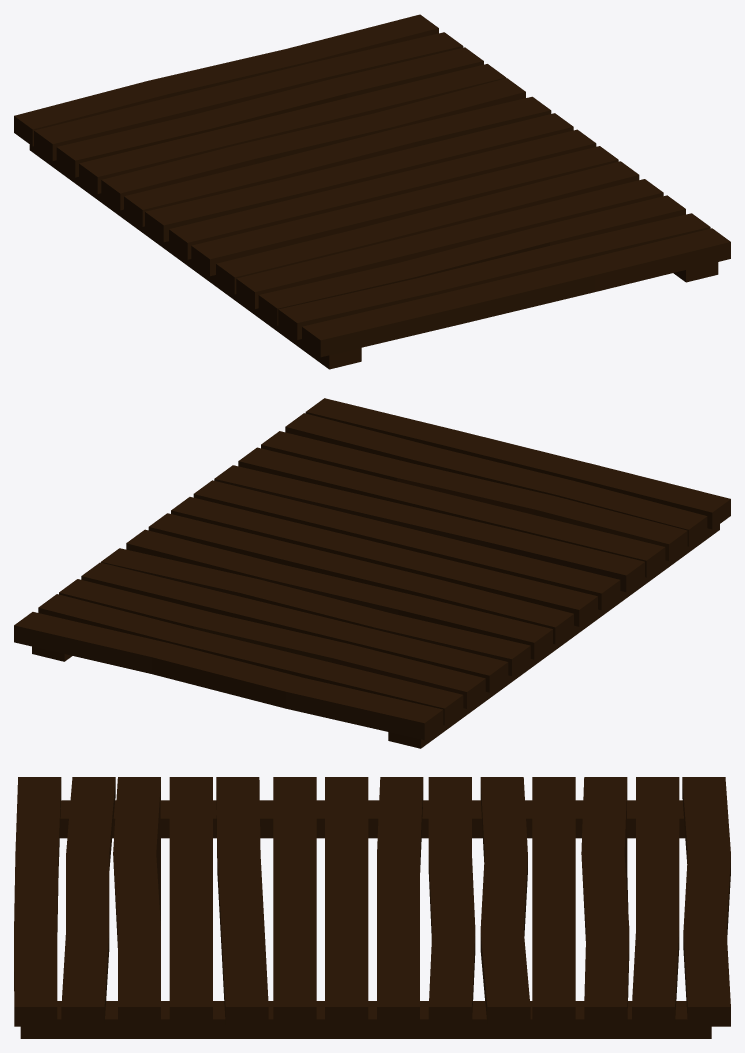
Rendered from PlankPlane.glb.
The picture shows the model from 3 angles, top to bottom: view 1: azimuth 30°, elevation 25°; view 2: azimuth 150°, elevation 25°; view 3: azimuth 270°, elevation 25°; orthographic projection. The views are drawn at different scales.
Parts seen in each view (by area): view 1: PlankPlane; view 2: PlankPlane; view 3: PlankPlane.
Part boxes in pixels (x1=…): PlankPlane: x1=14, y1=14, x2=730, y2=369; PlankPlane: x1=14, y1=398, x2=730, y2=748; PlankPlane: x1=14, y1=777, x2=730, y2=1038.
Bounding box in the file's own units: 2.52 × 0.191 × 3.32.
